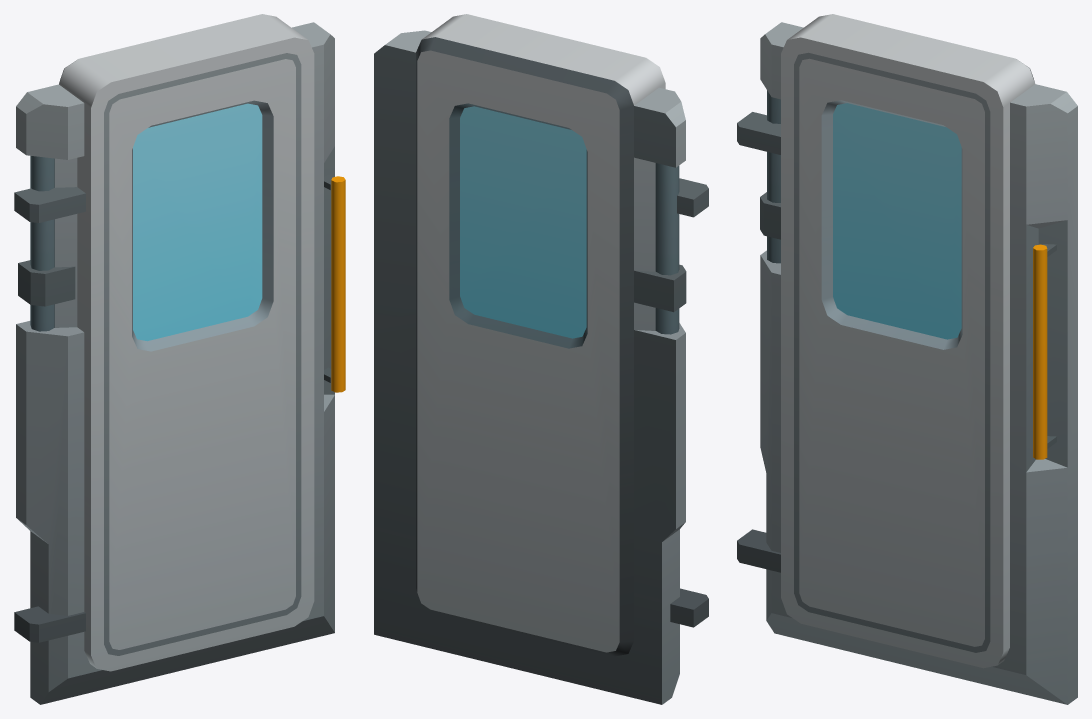
Rendered from Door_panel_008.fbx.
The picture shows the model from 3 angles, left to right: view 1: azimuth 30°, elevation 25°; view 2: azimuth 150°, elevation 25°; view 3: azimuth 330°, elevation 25°; orthographic projection. The views are drawn at different scales.
Parts seen in each view (by area): view 1: Door_panel_008; view 2: Door_panel_008; view 3: Door_panel_008.
Part boxes in pixels (x1=…): Door_panel_008: x1=14, y1=14, x2=345, y2=704; Door_panel_008: x1=374, y1=14, x2=708, y2=704; Door_panel_008: x1=737, y1=14, x2=1077, y2=704.
Bounding box in the file's own units: 145 × 30.48 × 271.
